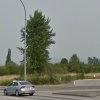Tree: (18, 10, 57, 82)
